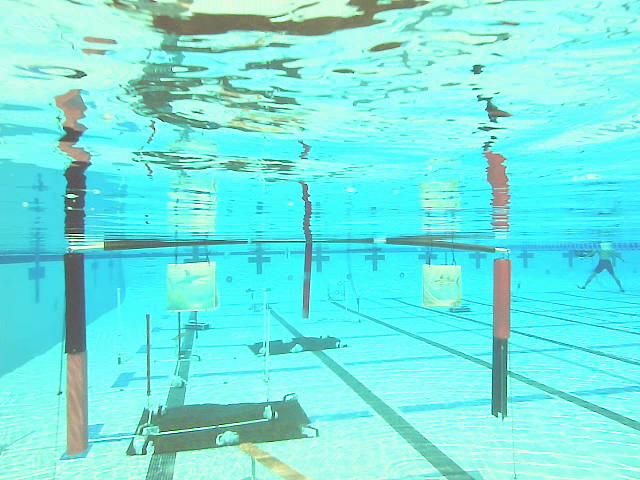black_poster: (144, 315, 153, 394)
divider: (302, 244, 313, 317)
left_gate_poster: (62, 253, 91, 455)
right_gate_poster: (491, 257, 511, 420)
shark: (166, 263, 220, 310)
swordfish: (424, 264, 463, 307)
white_poster: (115, 288, 125, 366), (264, 310, 272, 380)
